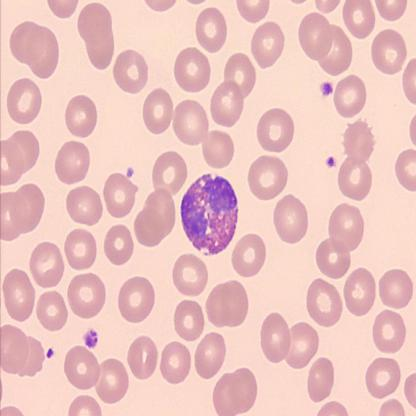Eosinophil: (180, 172, 238, 252)
